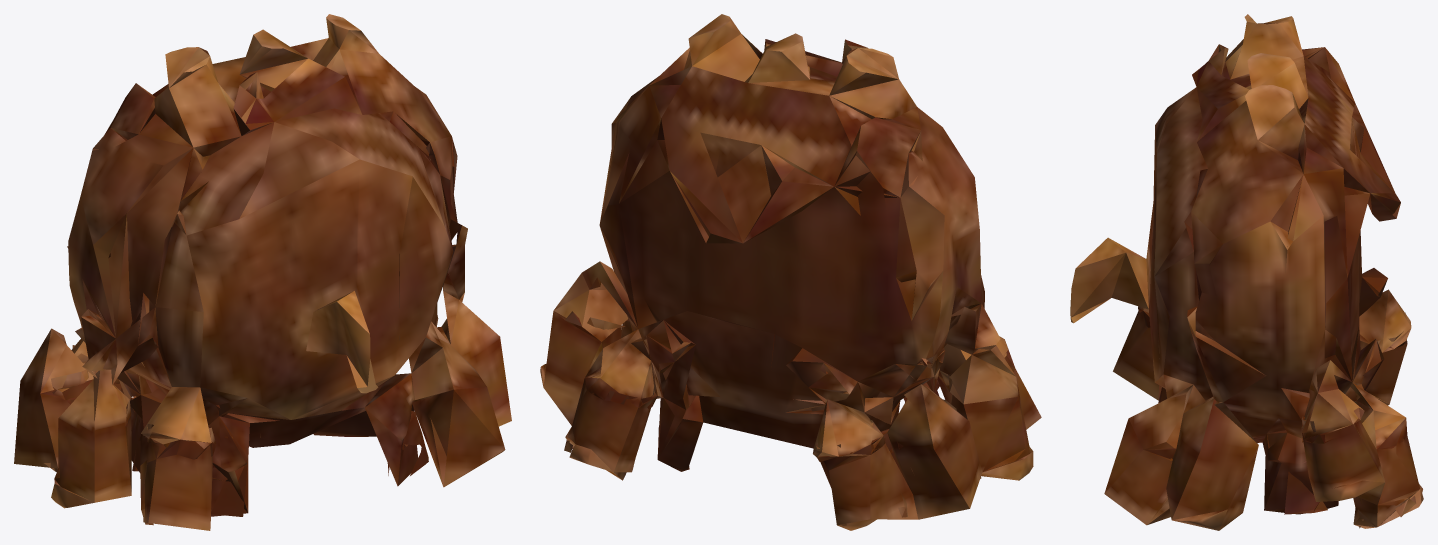
File: keg-pack.glb
3 renders of one model, left to right at view 1: azimuth 30°, elevation 25°; view 2: azimuth 150°, elevation 25°; view 3: azimuth 270°, elevation 25°, orthographic. The views are drawn at different scales.
Bounding box in the file's own units: 1.9 × 1.85 × 1.41.
1 material, 1 textured.
